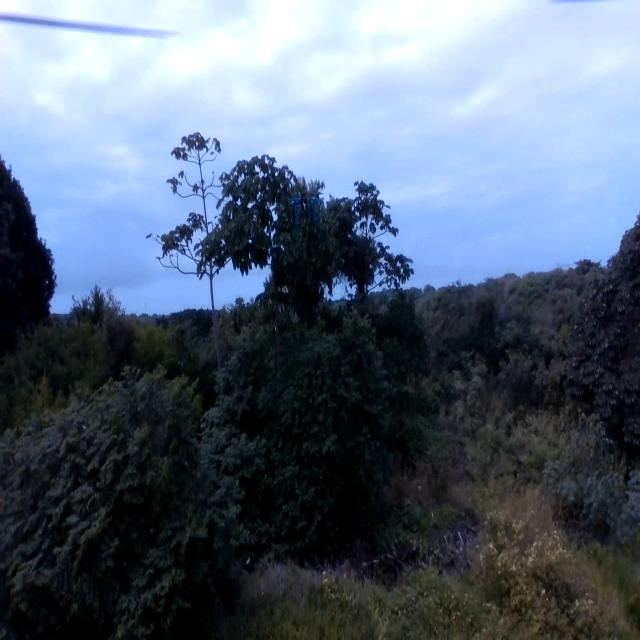-uav-: (286, 186, 324, 234)
